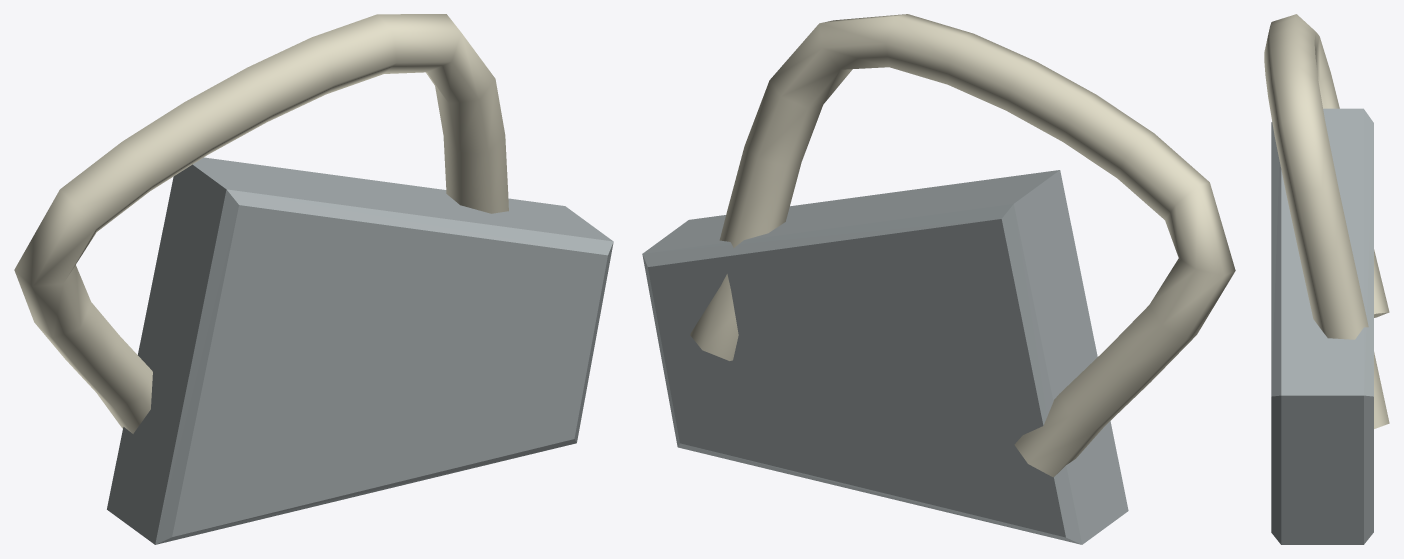
The model's file is wilderness-survival-camp-rope-tensioner-0fd53af5__21965.glb.
The picture shows the model from 3 angles, left to right: view 1: azimuth 30°, elevation 25°; view 2: azimuth 150°, elevation 25°; view 3: azimuth 270°, elevation 25°; orthographic projection. The views are drawn at different scales.
Visible parts, largest first — view 1: rope-tensioner; view 2: rope-tensioner; view 3: rope-tensioner.
Boxes of the visible parts, x1,y1,x2,y2 form: rope-tensioner: (14,14,613,544); rope-tensioner: (642,14,1235,544); rope-tensioner: (1264,14,1389,544).
Bounding box in the file's own units: 0.1727 × 0.1332 × 0.0379.
